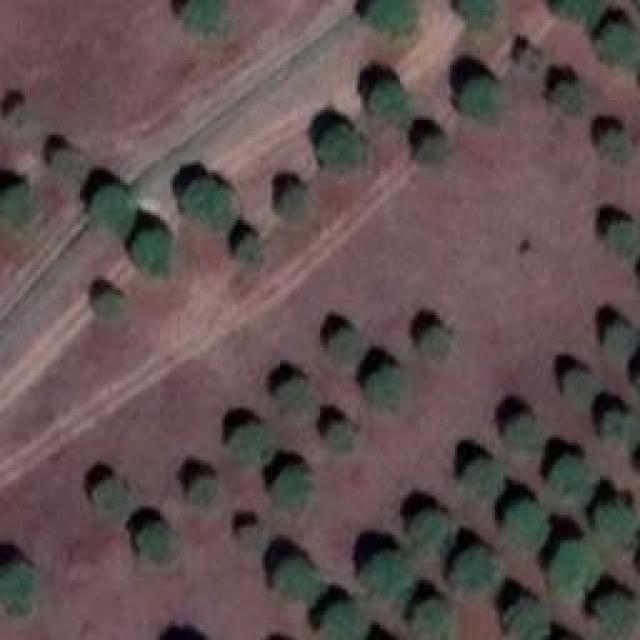Tree: (550, 540, 603, 593), (365, 555, 410, 600), (505, 505, 548, 548), (185, 178, 228, 221), (368, 365, 411, 408), (552, 457, 590, 505), (90, 188, 128, 231), (455, 550, 495, 590), (0, 565, 35, 610), (600, 590, 635, 635), (275, 562, 315, 600), (93, 480, 133, 518), (370, 0, 413, 35), (187, 0, 225, 38), (133, 230, 168, 270), (415, 600, 450, 640), (233, 425, 273, 460), (462, 80, 500, 115), (322, 605, 360, 640), (513, 600, 546, 640), (410, 513, 448, 546), (600, 25, 635, 60), (325, 130, 360, 165), (465, 463, 500, 498), (603, 413, 638, 446), (598, 510, 633, 543), (0, 185, 32, 220), (275, 473, 305, 508), (557, 0, 602, 22), (330, 330, 360, 363), (280, 380, 313, 410), (510, 415, 538, 450), (458, 0, 493, 28), (608, 322, 638, 350), (555, 82, 585, 110), (607, 223, 635, 253), (140, 527, 170, 555), (372, 82, 400, 110), (418, 138, 448, 163), (283, 185, 308, 213), (190, 478, 218, 503), (603, 130, 626, 160), (563, 373, 588, 396), (98, 293, 121, 318), (423, 328, 446, 353), (328, 423, 351, 446), (237, 233, 255, 258), (55, 150, 75, 168), (238, 525, 258, 540), (523, 48, 538, 63)
